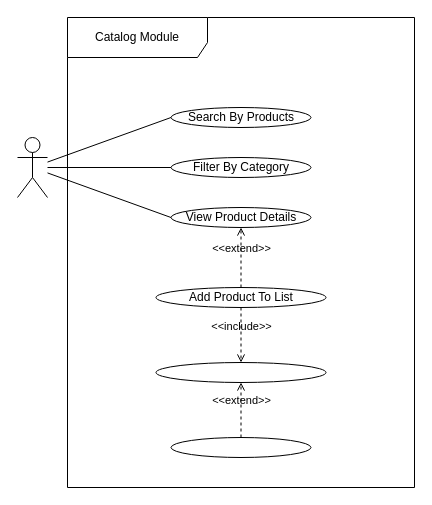
Some shapes in this 432 by 505 pixel diagram are drawn without their labels. Each missing label, with the centre of its shape:
"Create Existing List" belongs at (240,447).
"Select Existing List" belongs at (240,372).
"User" belongs at (32,167).
